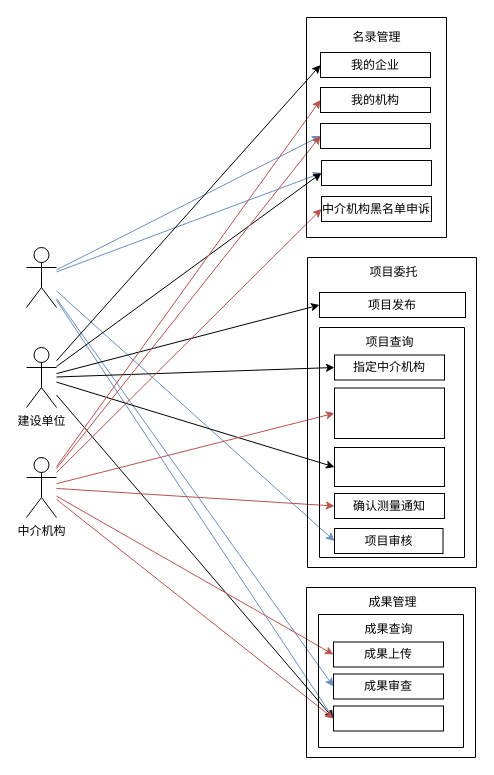
Image size: 494x775. Some labels were removed from this diagram. The shapes that lost their labels are listed below. From the top down, each one's centre as x and y in pixels, then its label:
point (375, 135): 建设单位列表
point (376, 173): 中介机构列表
point (41, 277): 监管单位
point (389, 412): 完善项目信息 上传合同文件 上传备案通知书
point (389, 466): 关联测绘事项 发布测量通知
point (388, 718): 成果下载
